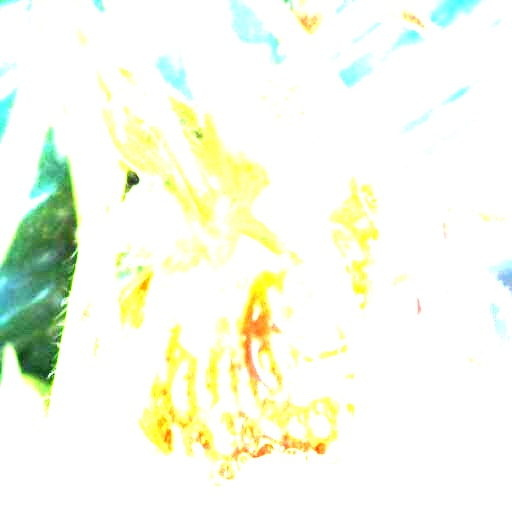Gray Mold: (366, 97, 511, 371)
